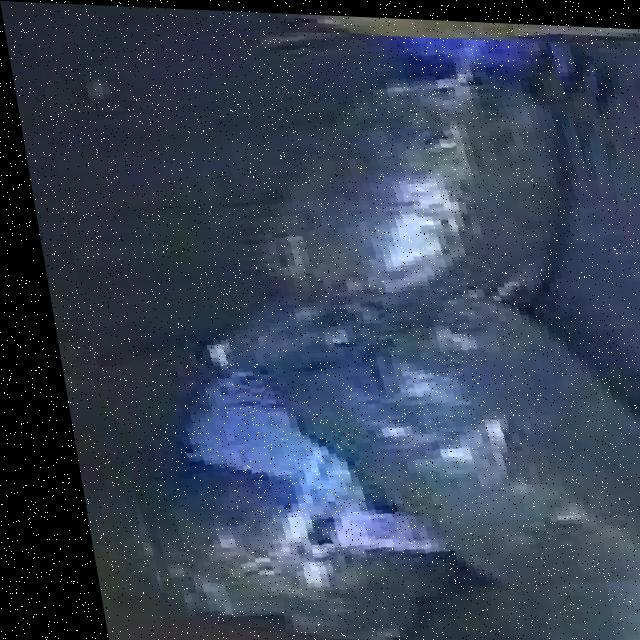plasticbottle: (32, 19, 640, 625)
